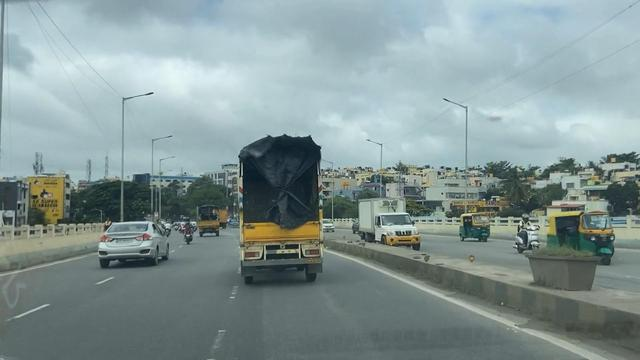HMV: (229, 128, 344, 293), (355, 193, 426, 253), (192, 198, 230, 245)
